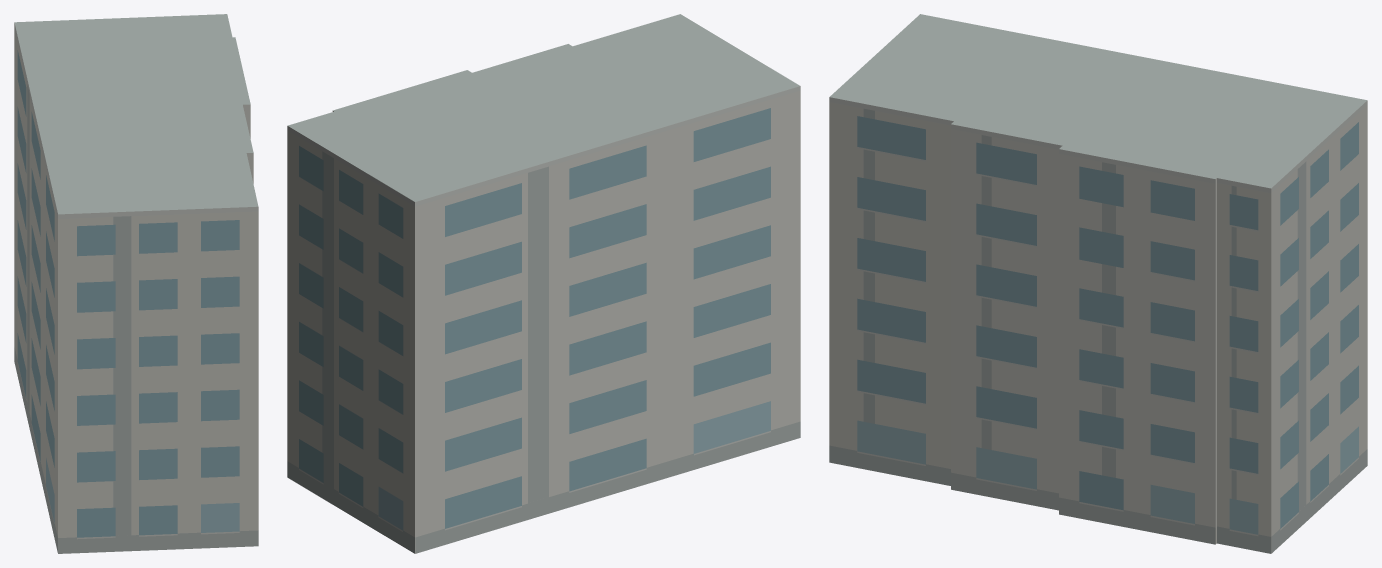
The model's file is survey-upis-32742004.glb.
3 views of the same model, side by side, from view 1: azimuth 30°, elevation 25°; view 2: azimuth 150°, elevation 25°; view 3: azimuth 270°, elevation 25° (orthographic). The views are drawn at different scales.
Visible parts, largest first — view 1: survey-upis-32742004.tmp; view 2: survey-upis-32742004.tmp; view 3: survey-upis-32742004.tmp.
Part boxes in pixels (<box>): survey-upis-32742004.tmp: <box>14,14,258,553</box>; survey-upis-32742004.tmp: <box>287,14,800,553</box>; survey-upis-32742004.tmp: <box>829,14,1367,553</box>.
Bounding box in the file's own units: 18.75 × 18.3 × 24.44.
